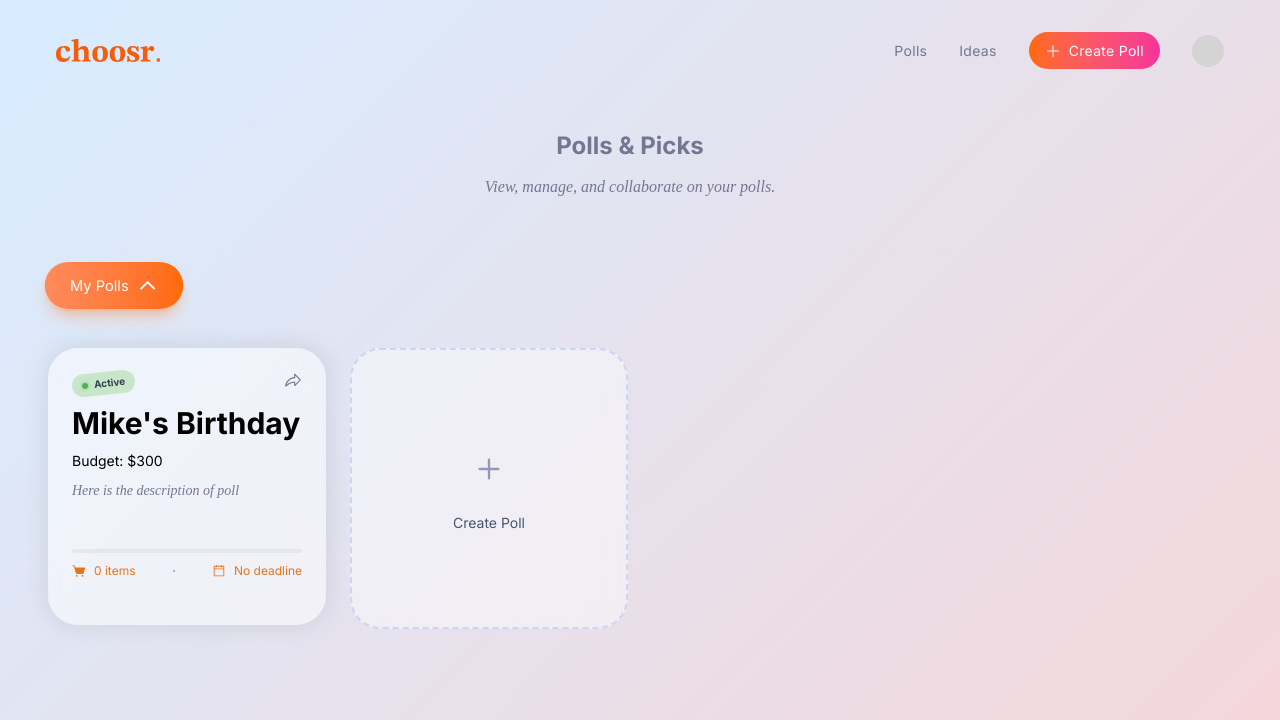
Test: Poll Page › failes by editing poll title with long title
Click the heading "Mike's Birthday".
click(187, 423)  # box [72,405,302,441]
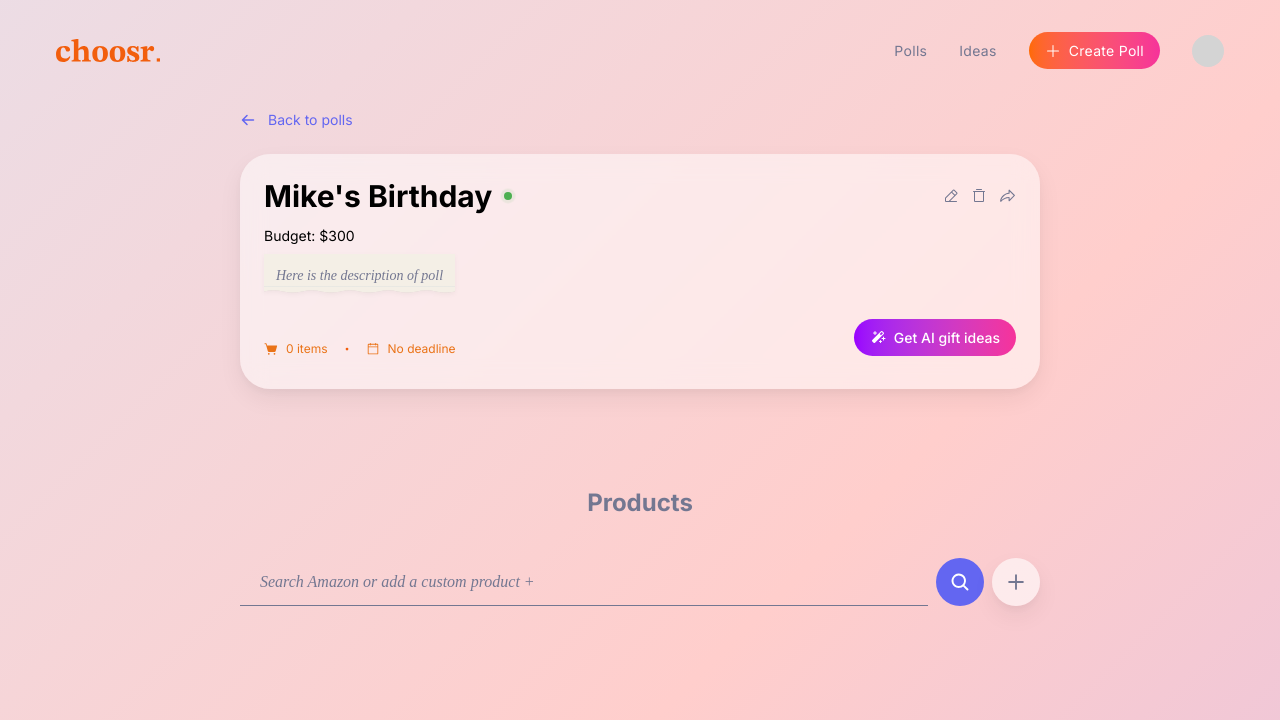
Click the icon with test id "edit-icon".
click(951, 196)  # box [943,188,959,204]
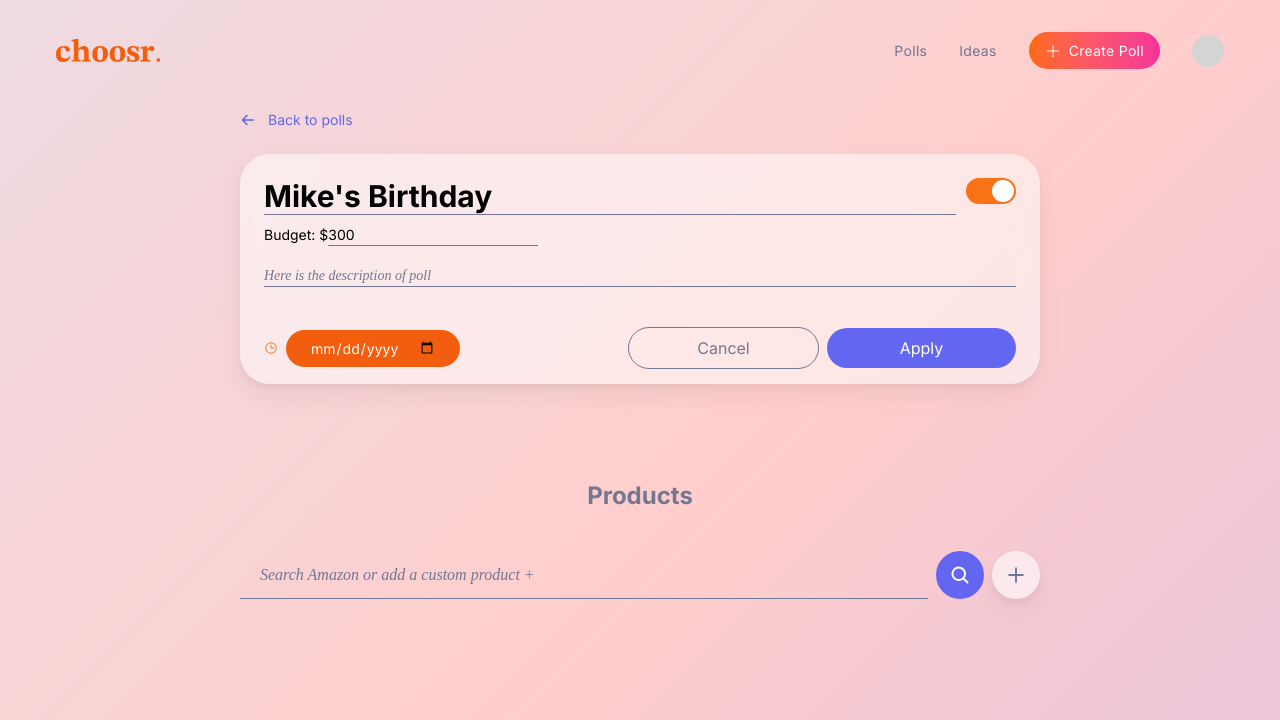
Replace the text in the 1st field named "title" with "Here is very loooooooooooooooooooooooooooooooooooooooooooooong title" at coordinates (610, 197), box [264,178,956,215]
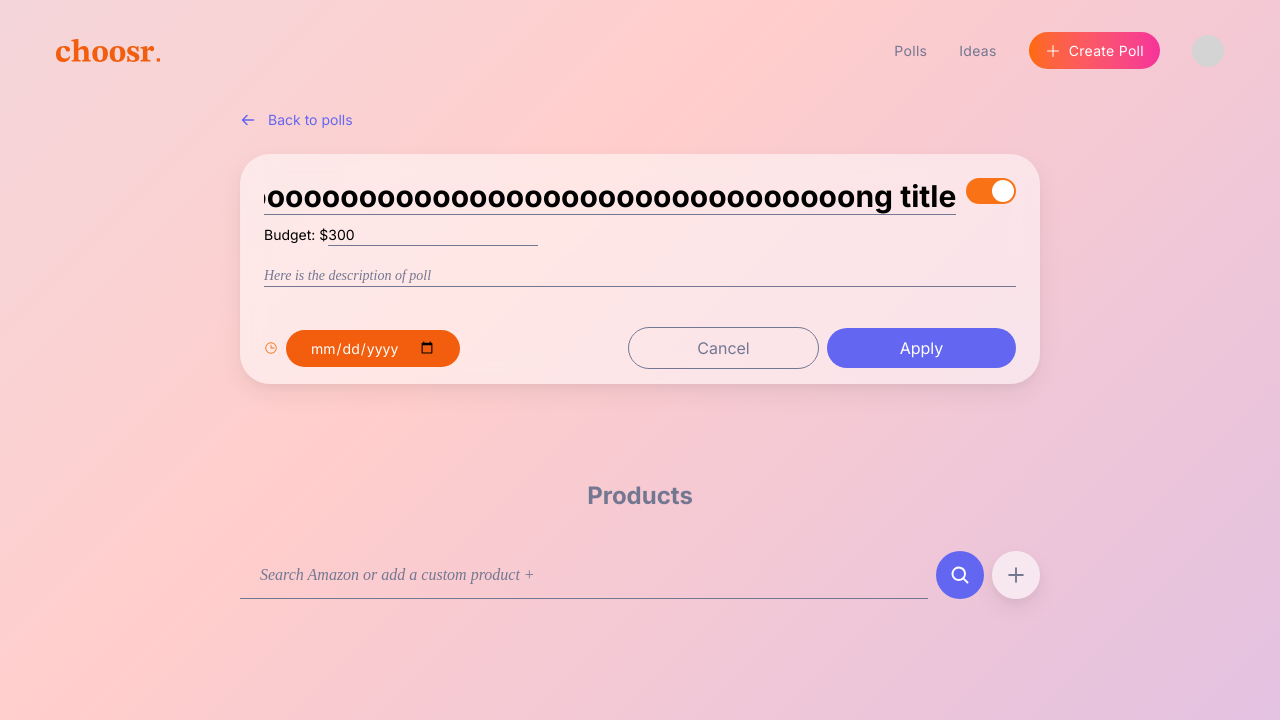
Click the button "Apply".
click(922, 348)  # box [827,328,1016,368]
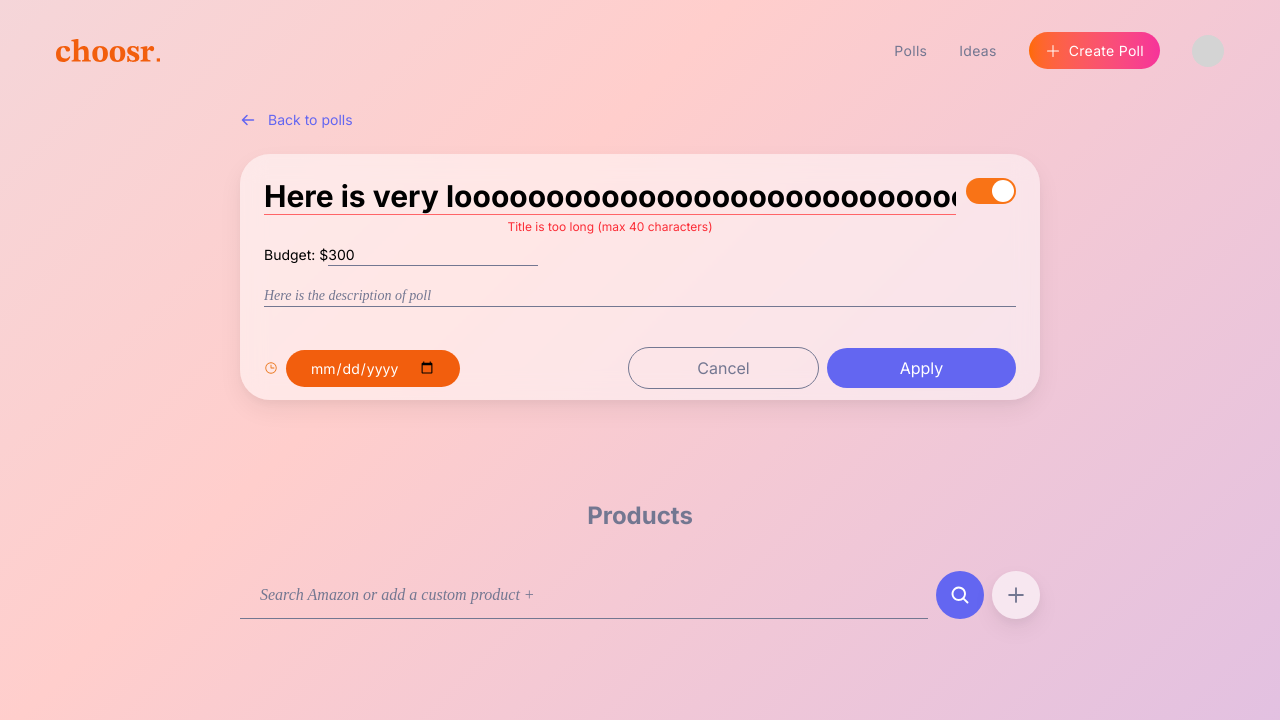
Expected: the text "Title is too long (max 40 characters)" is shown, [508,219,713,234]
